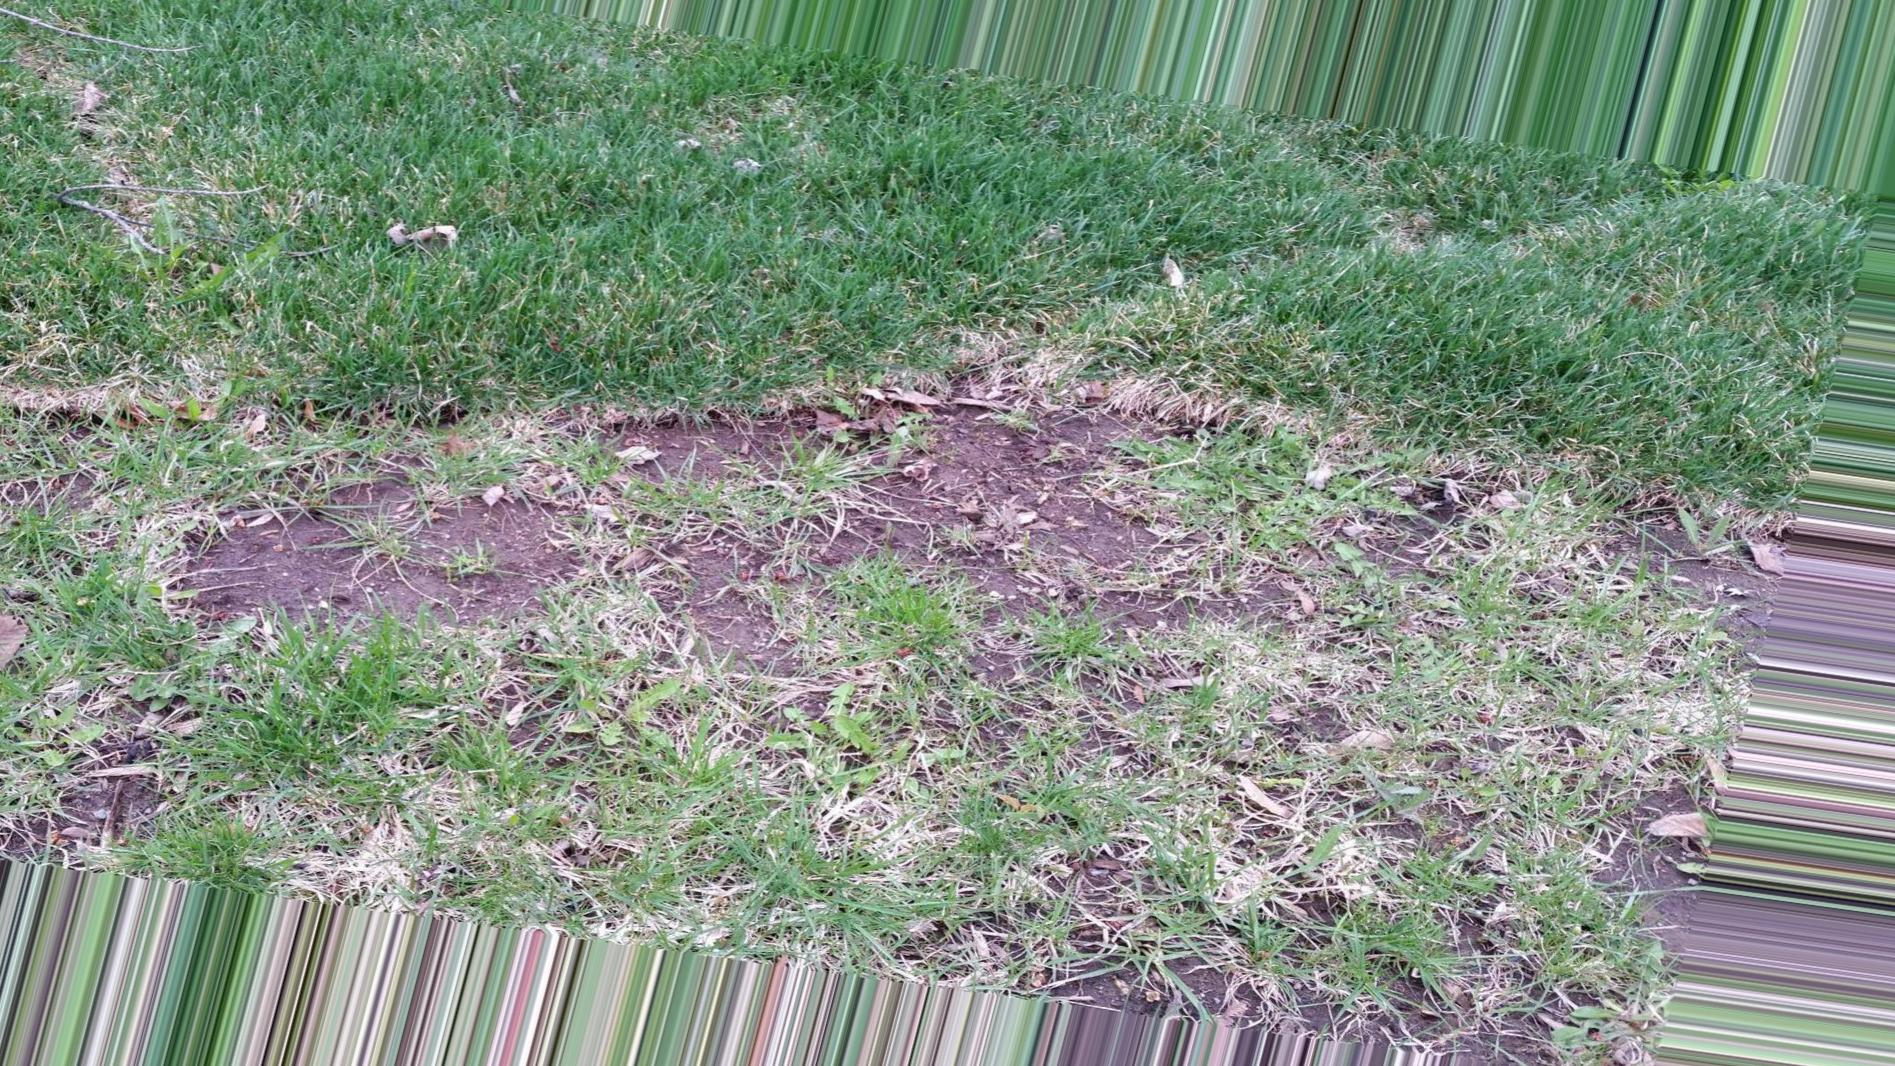patch: (675, 443, 1072, 597), (1072, 439, 1378, 633), (279, 479, 575, 616), (699, 596, 828, 665), (1643, 538, 1757, 596), (1132, 945, 1249, 1000)
